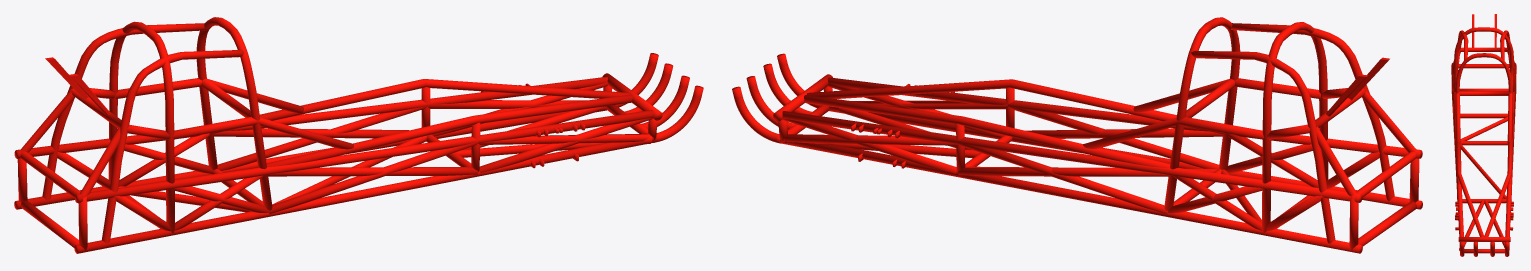
File: chassis.fbx
3 renders of one model, left to right at view 1: azimuth 30°, elevation 25°; view 2: azimuth 150°, elevation 25°; view 3: azimuth 270°, elevation 25°, orthographic. The views are drawn at different scales.
Visible parts, largest first — view 1: ChassisExport; view 2: ChassisExport; view 3: ChassisExport.
Boxes of the visible parts, x1,y1,x2,y2 form: ChassisExport: (14,17,703,253); ChassisExport: (732,17,1422,253); ChassisExport: (1451,14,1516,256).
Size of the model in its own units: 586 by 1075 by 3300.
